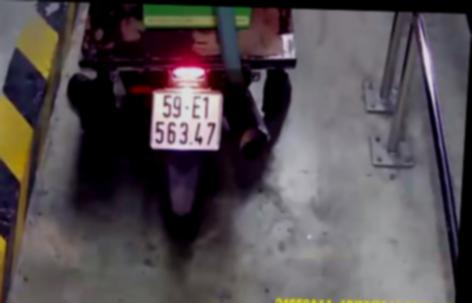License_Plate: (143, 84, 227, 157)
